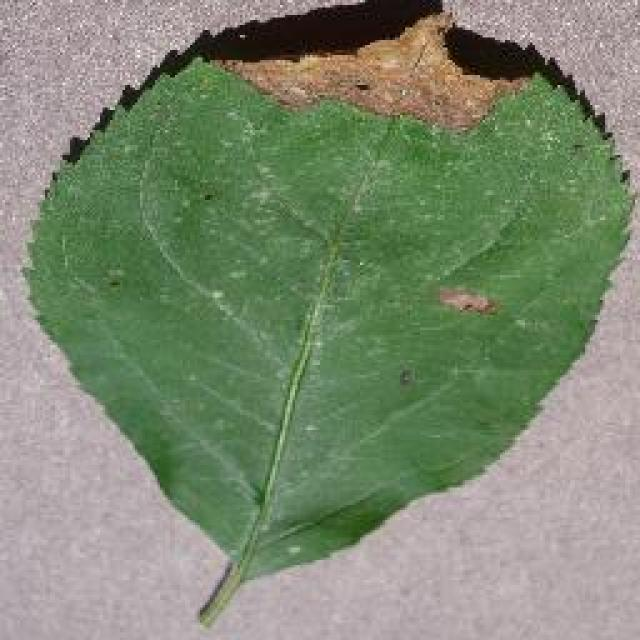Black_rot: (20, 2, 635, 628)
